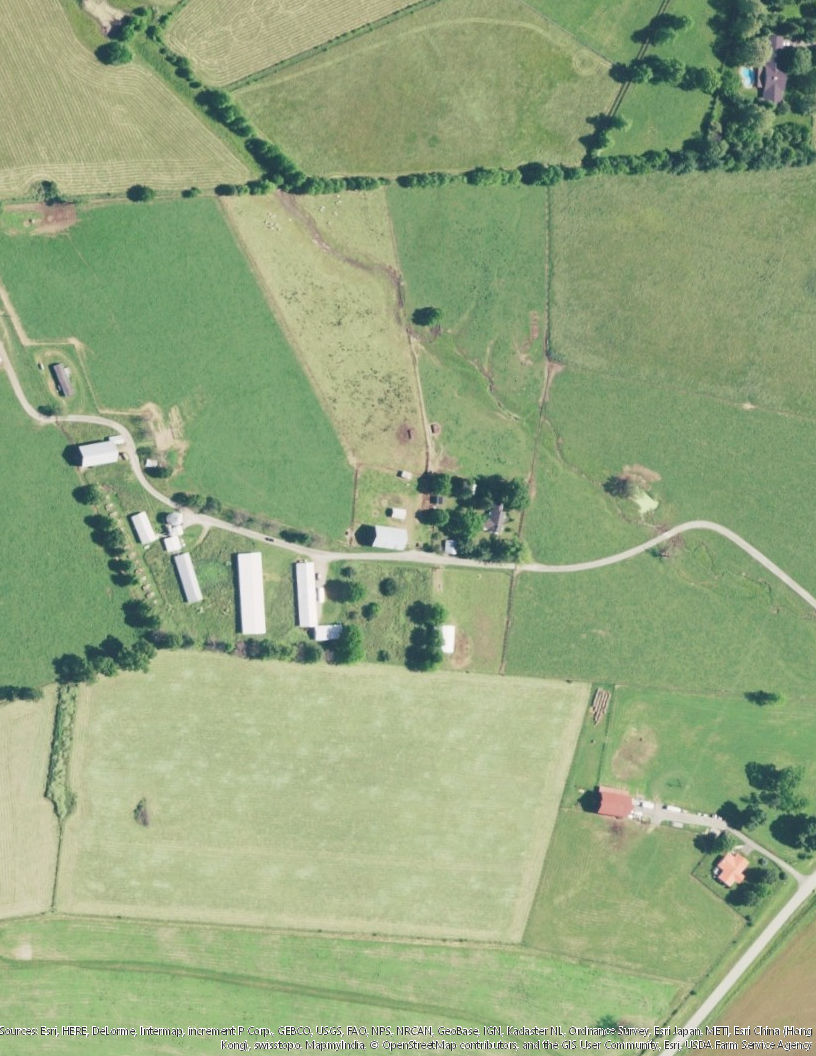cafo: (231, 545, 270, 639), (287, 558, 326, 633), (170, 548, 207, 606), (76, 435, 123, 469), (370, 524, 412, 553)
